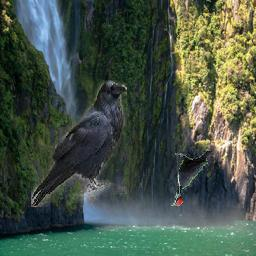Crow: (31, 81, 127, 208)
Woodpecker: (170, 152, 212, 207)
